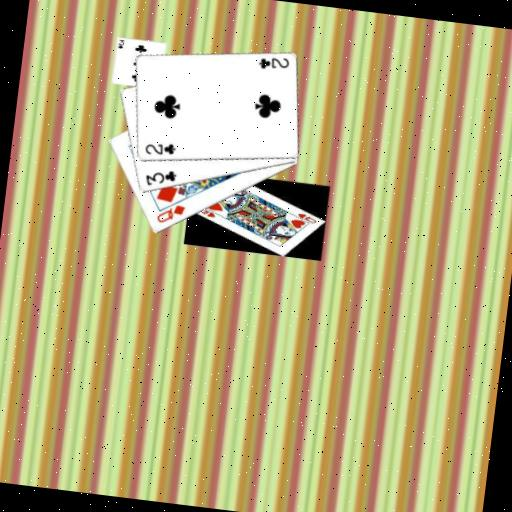2C: (141, 138, 178, 160), (254, 52, 291, 74)
3C: (142, 165, 179, 191)
QD: (153, 199, 188, 228)
